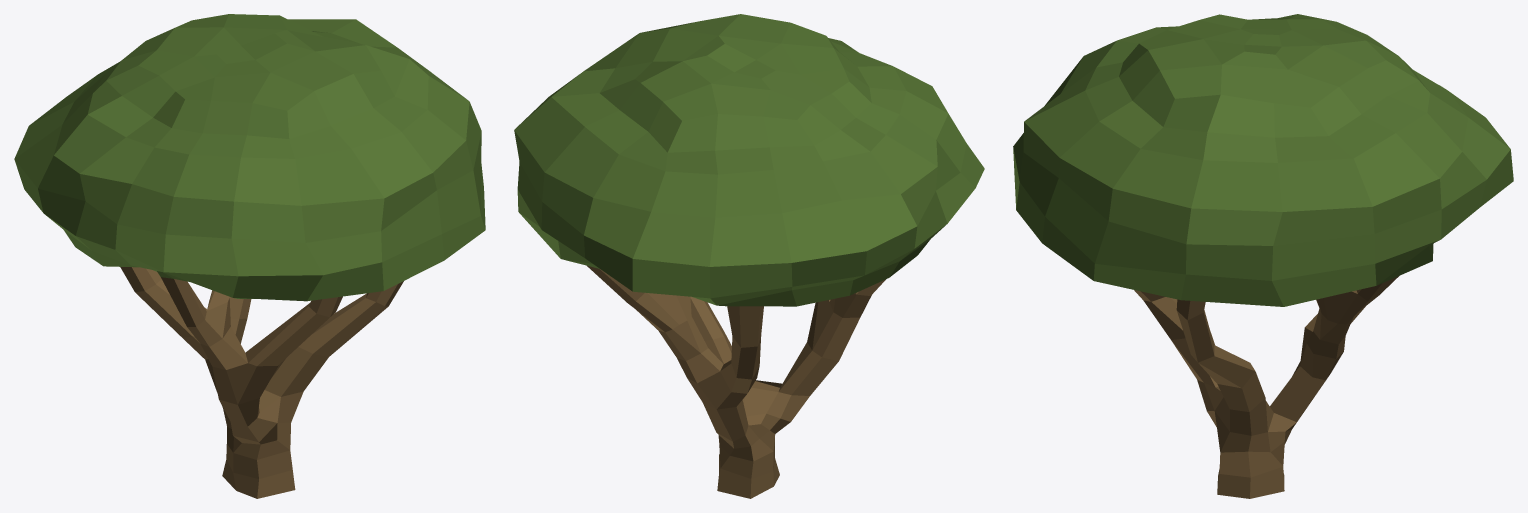
Rendered from KuaTree.fbx.
3 renders of one model, left to right at view 1: azimuth 30°, elevation 25°; view 2: azimuth 150°, elevation 25°; view 3: azimuth 270°, elevation 25°, orthographic. The views are drawn at different scales.
Parts seen in each view (by area): view 1: BSurfaceMesh.001; view 2: BSurfaceMesh.001; view 3: BSurfaceMesh.001.
Part boxes in pixels (bbox=[...]): BSurfaceMesh.001: bbox=[14, 14, 485, 498]; BSurfaceMesh.001: bbox=[514, 14, 984, 498]; BSurfaceMesh.001: bbox=[1013, 14, 1513, 498].
Bounding box in the file's own units: 159 × 166 × 169.
